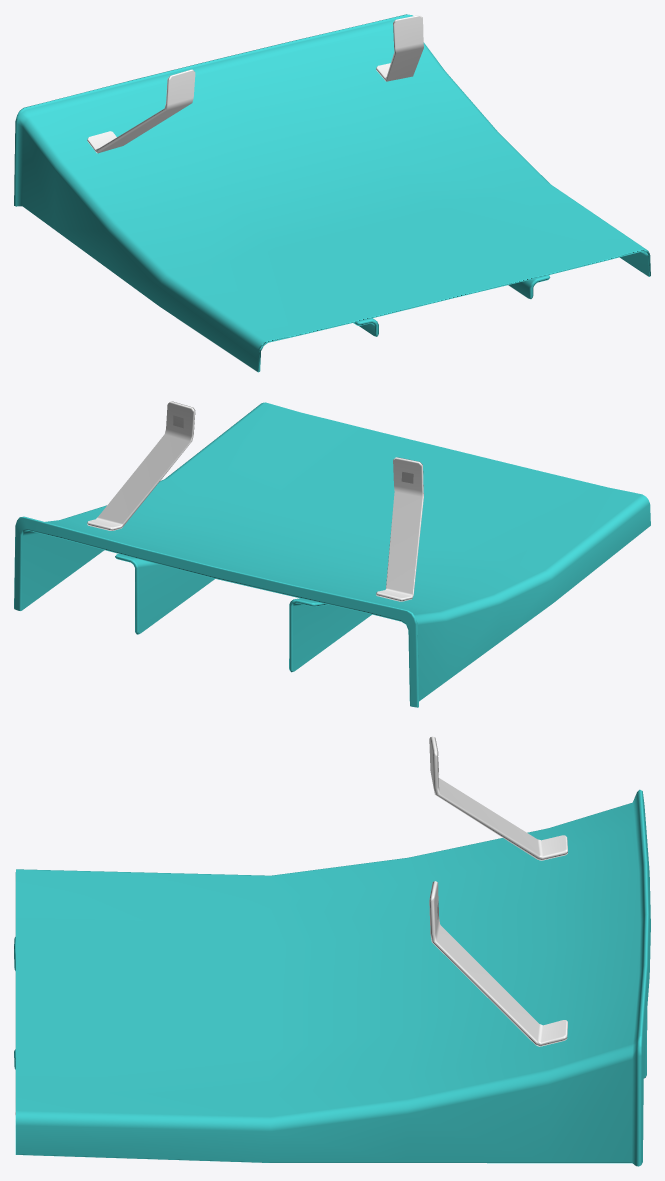
Rendered from Car_Nissan_SkylineGTRVspecR34_1999_Diffuser_SetEG.fbx.
3 views of the same model, one above another, from view 1: azimuth 30°, elevation 25°; view 2: azimuth 150°, elevation 25°; view 3: azimuth 270°, elevation 25° (orthographic). The views are drawn at different scales.
Visible parts, largest first — view 1: Diffuser 6; view 2: Diffuser 6; view 3: Diffuser 6.
Boxes of the visible parts, x1,y1,x2,y2 form: Diffuser 6: [14, 14, 650, 372]; Diffuser 6: [14, 401, 650, 707]; Diffuser 6: [14, 736, 650, 1166].
Size of the model in its own units: 0.5551 by 0.2219 by 0.5768.
